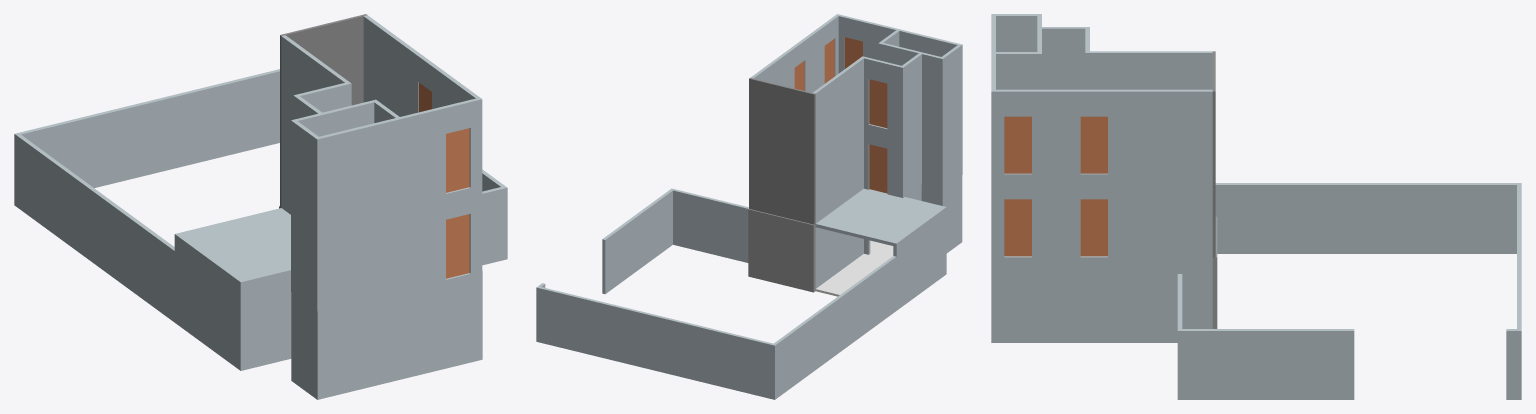
Rendered from wingAv4.dae.
The picture shows the model from 3 angles, left to right: view 1: azimuth 30°, elevation 25°; view 2: azimuth 150°, elevation 25°; view 3: azimuth 270°, elevation 25°; orthographic projection. The views are drawn at different scales.
Parts seen in each view (by area): view 1: mesh135, mesh116, mesh132, mesh50, mesh50.000, mesh111, mesh77, mesh112, mesh213, mesh224, mesh115, mesh93 (+17 smaller); view 2: mesh141, mesh132, mesh204, mesh223.000, mesh223, mesh274, mesh77, mesh273, mesh111, mesh93.000, mesh93, mesh164 (+26 smaller); view 3: mesh134, mesh117, mesh279, mesh215.000, mesh215, mesh89, mesh82.000, mesh82, mesh41, mesh31, mesh62.000, mesh62 (+13 smaller).
Boxes of the visible parts, x1,y1,x2,y2 form: mesh135: (21, 71, 279, 188); mesh116: (317, 271, 482, 399); mesh132: (14, 134, 174, 322); mesh50: (317, 108, 445, 225); mesh50.000: (317, 194, 445, 310); mesh111: (174, 234, 240, 370); mesh77: (179, 208, 290, 279); mesh112: (240, 270, 291, 370); mesh213: (363, 16, 417, 116); mesh224: (286, 16, 363, 104); mesh115: (291, 292, 317, 399); mesh93: (281, 36, 344, 128); mesh141: (536, 287, 774, 399); mesh132: (775, 257, 896, 399); mesh204: (748, 209, 813, 292); mesh223.000: (749, 144, 814, 224); mesh223: (749, 78, 814, 159); mesh274: (673, 190, 748, 262); mesh77: (816, 188, 941, 242); mesh273: (605, 191, 672, 293); mesh111: (896, 207, 946, 310); mesh93.000: (815, 123, 863, 223); mesh93: (815, 58, 863, 158); mesh164: (815, 227, 863, 288); mesh134: (1215, 185, 1516, 253); mesh117: (991, 257, 1212, 342); mesh279: (1177, 331, 1354, 399); mesh215.000: (1108, 174, 1212, 257); mesh215: (1108, 91, 1212, 174); mesh89: (1085, 53, 1212, 89); mesh82.000: (1032, 174, 1080, 257); mesh82: (1032, 91, 1080, 174); mesh41: (1042, 28, 1085, 89); mesh31: (996, 54, 1041, 89); mesh62.000: (1004, 116, 1031, 173); mesh62: (1004, 199, 1031, 256).
Size of the model in its own units: 11.5 by 17.42 by 9.1.
